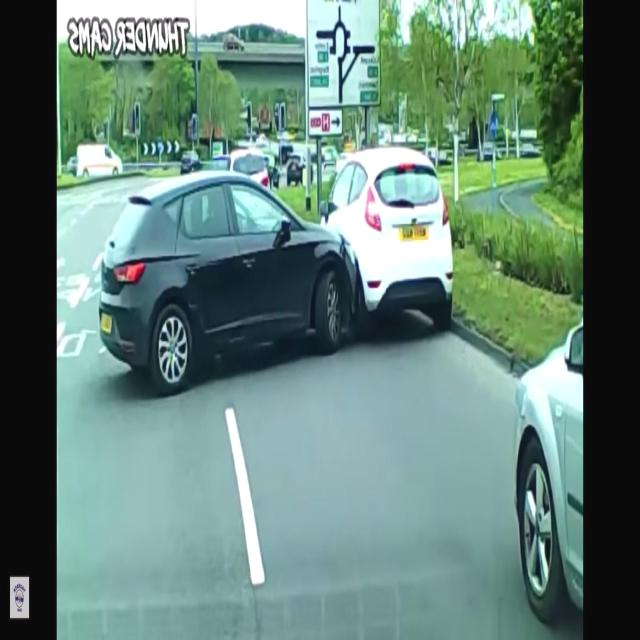accident: (100, 144, 450, 396)
